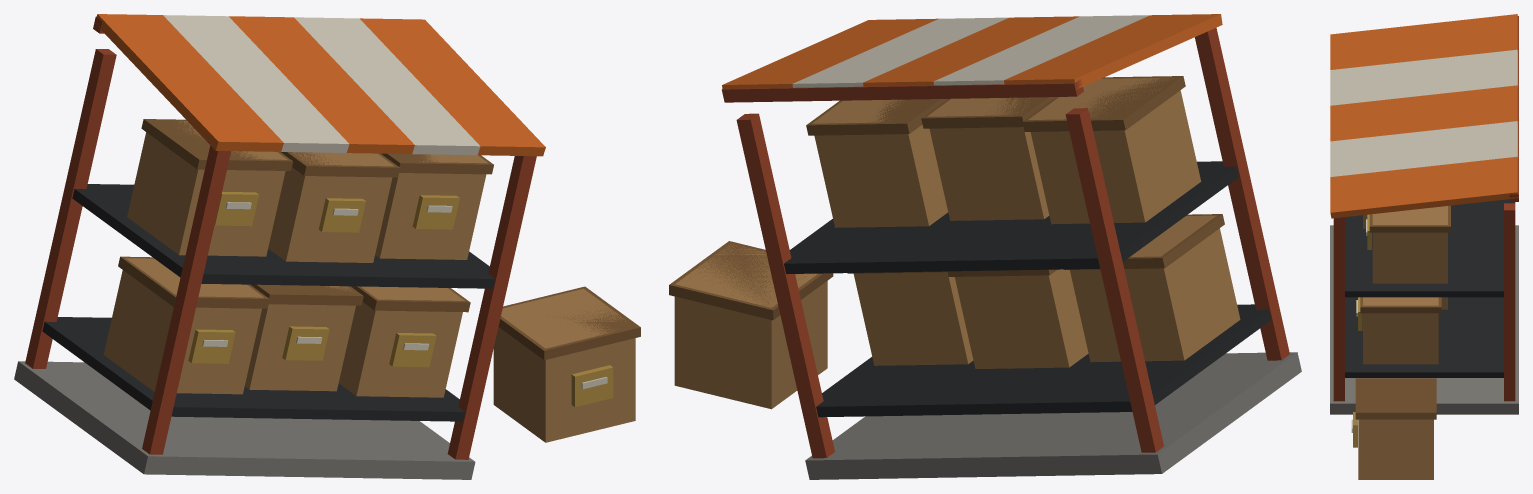
The model's file is poi_tag_rack_leaning.glb.
3 views of the same model, side by side, from view 1: azimuth 30°, elevation 25°; view 2: azimuth 150°, elevation 25°; view 3: azimuth 270°, elevation 25° (orthographic). The views are drawn at different scales.
Parts seen in each view (by area): view 1: TagRackLeaning; view 2: TagRackLeaning; view 3: TagRackLeaning.
Boxes of the visible parts, box(x1,y1,x2,y2) form: TagRackLeaning: box(14, 14, 640, 479); TagRackLeaning: box(669, 14, 1301, 479); TagRackLeaning: box(1330, 14, 1518, 479).
Bounding box in the file's own units: 4.57 × 3.66 × 2.
